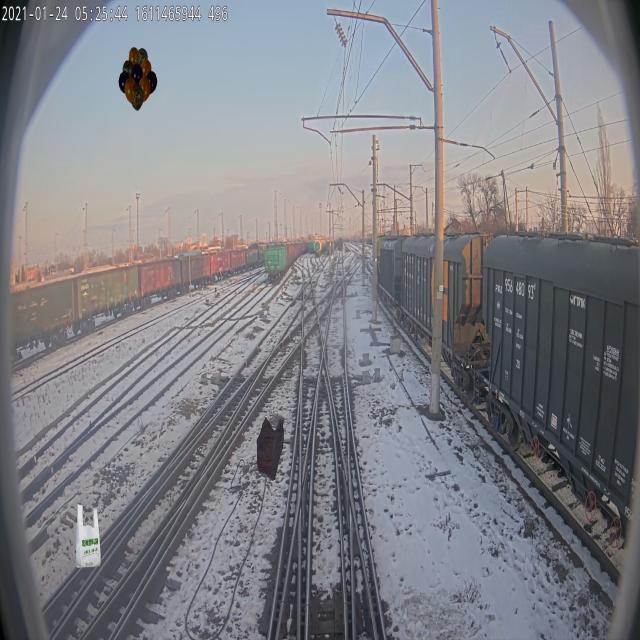balloon: (119, 47, 158, 111)
plastic bag: (256, 416, 284, 481), (76, 503, 101, 568)
